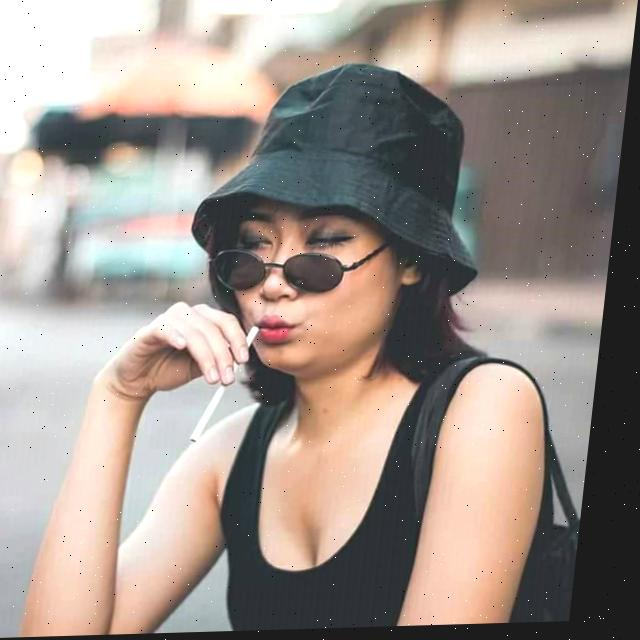cigarette: (199, 327, 268, 444)
